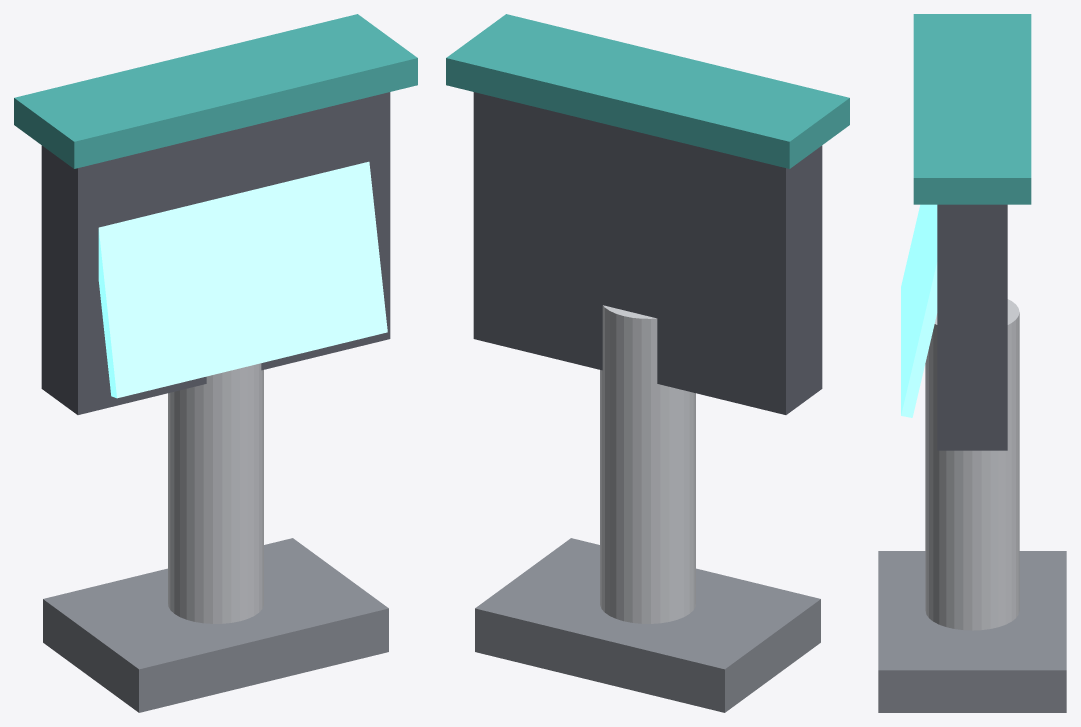
File: info_kiosk.glb
3 views of the same model, side by side, from view 1: azimuth 30°, elevation 25°; view 2: azimuth 150°, elevation 25°; view 3: azimuth 270°, elevation 25° (orthographic). The views are drawn at different scales.
Visible parts, largest first — view 1: KioskScreen, KioskHousing, KioskBase, KioskRoof, KioskColumn; view 2: KioskHousing, KioskBase, KioskRoof, KioskColumn; view 3: KioskBase, KioskRoof, KioskColumn, KioskHousing, KioskScreen.
Boxes of the visible parts, box(x1,y1,x2,y2) form: KioskScreen: box(98, 161, 387, 398); KioskHousing: box(41, 92, 390, 414); KioskBase: box(43, 538, 388, 712); KioskRoof: box(14, 14, 417, 168); KioskColumn: box(168, 363, 263, 623); KioskHousing: box(473, 92, 822, 414); KioskBase: box(475, 538, 820, 712); KioskRoof: box(446, 14, 849, 168); KioskColumn: box(600, 305, 695, 623); KioskBase: box(878, 551, 1066, 712); KioskRoof: box(913, 14, 1031, 204); KioskColumn: box(925, 299, 1019, 630); KioskHousing: box(937, 204, 1007, 450); KioskScreen: box(901, 204, 937, 417).
Size of the model in its own units: 3.3 by 5.22 by 1.6.
